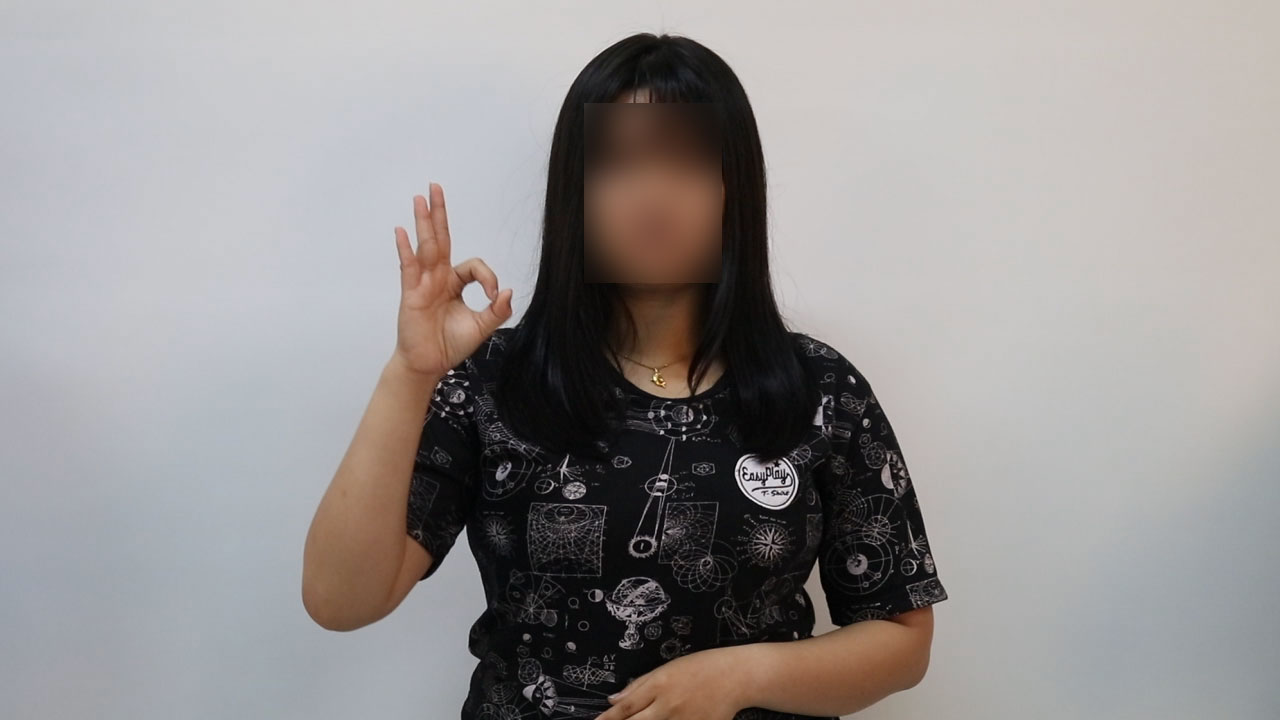for: (371, 172, 517, 386)
